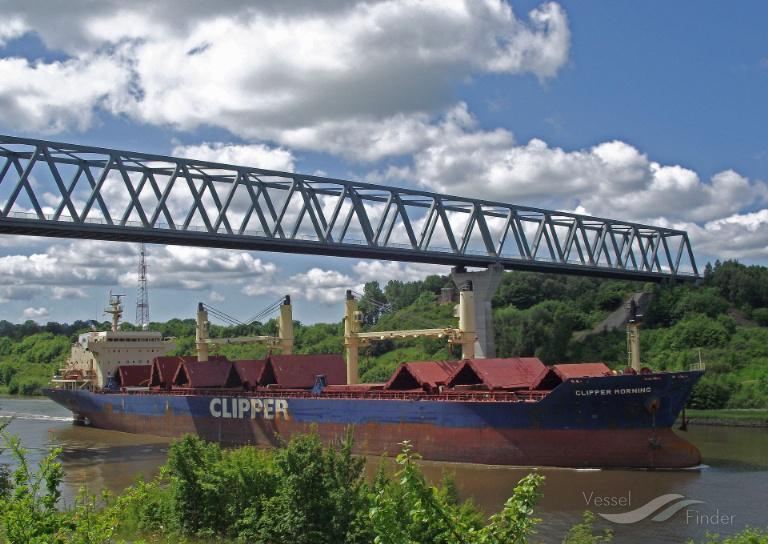OCR: (204, 392, 295, 427), (568, 384, 660, 402)
